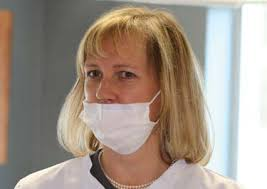mask_weared_incorrect: (81, 31, 164, 156)
